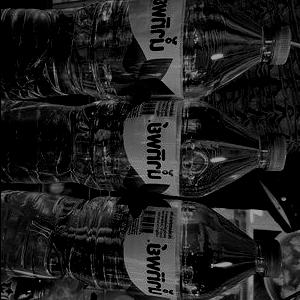bottle: (0, 186, 286, 300), (0, 0, 295, 105), (0, 96, 292, 201)
